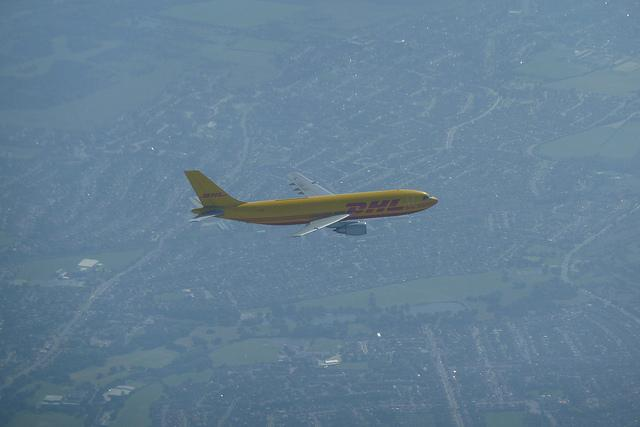airplane: (183, 168, 440, 239)
